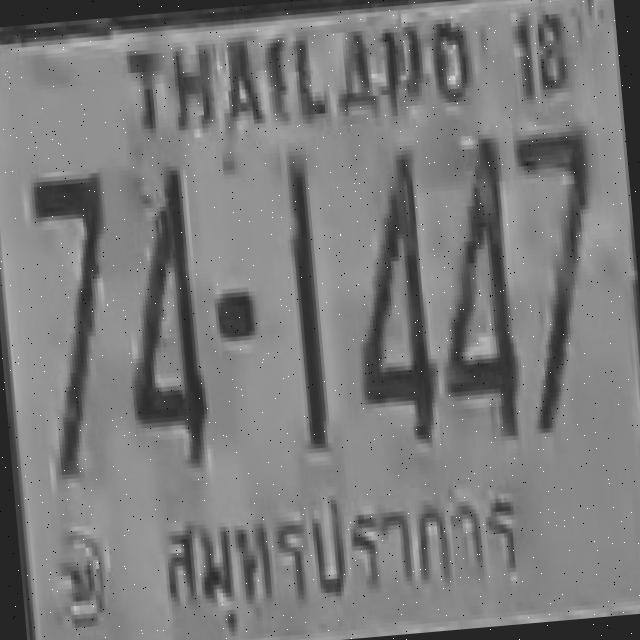1: (280, 154, 331, 449)
4: (422, 133, 524, 441), (110, 163, 211, 466), (338, 147, 438, 446)
7: (509, 125, 613, 434), (28, 172, 126, 475), (30, 172, 116, 375)
SamutPrakan: (137, 455, 537, 640)
